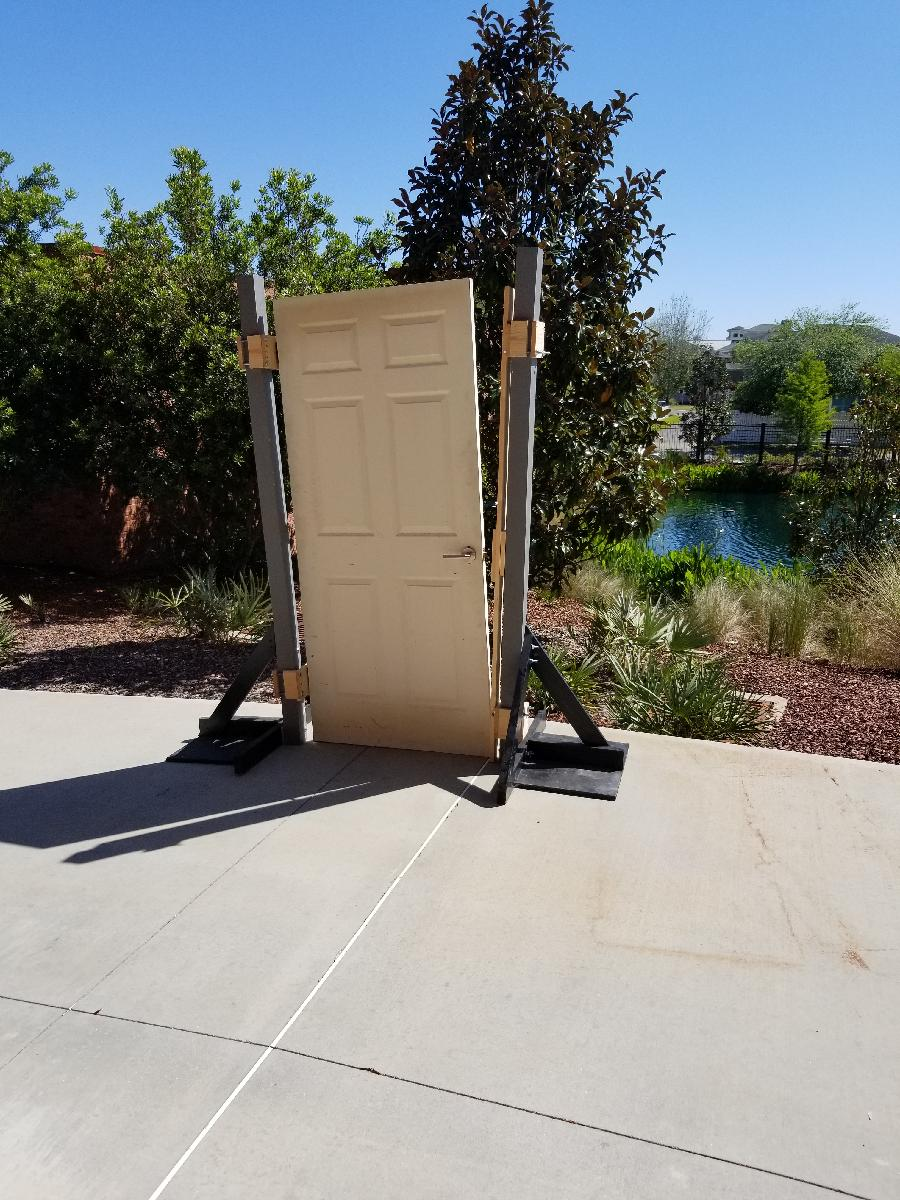door: (268, 272, 501, 765)
doorHandle: (441, 545, 482, 572)
